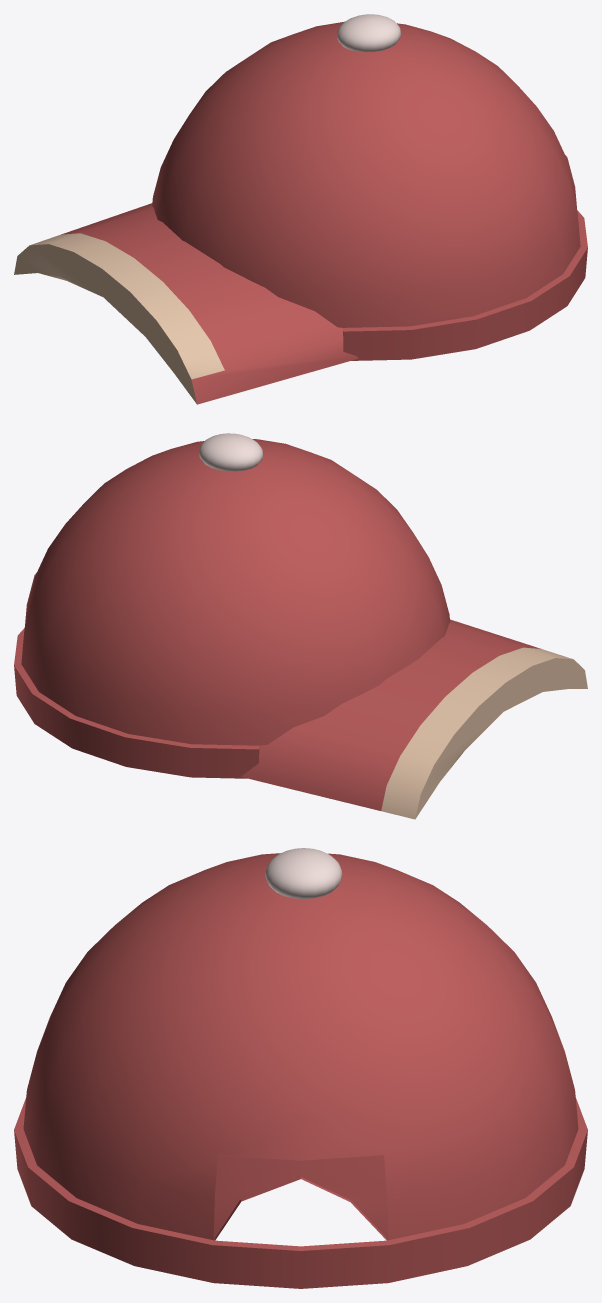
The model's file is figurehat.fbx.
The picture shows the model from 3 angles, top to bottom: view 1: azimuth 30°, elevation 25°; view 2: azimuth 150°, elevation 25°; view 3: azimuth 270°, elevation 25°; orthographic projection. The views are drawn at different scales.
Parts seen in each view (by area): view 1: polySurface91; view 2: polySurface91; view 3: polySurface91.
Part boxes in pixels (x1,y1,x2,y2): polySurface91: [14, 14, 587, 404]; polySurface91: [14, 433, 587, 819]; polySurface91: [14, 848, 587, 1288].
Size of the model in its own units: 2.05 by 1.08 by 1.73.
